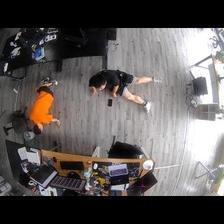fall: (88, 68, 161, 115), (28, 75, 64, 136)
